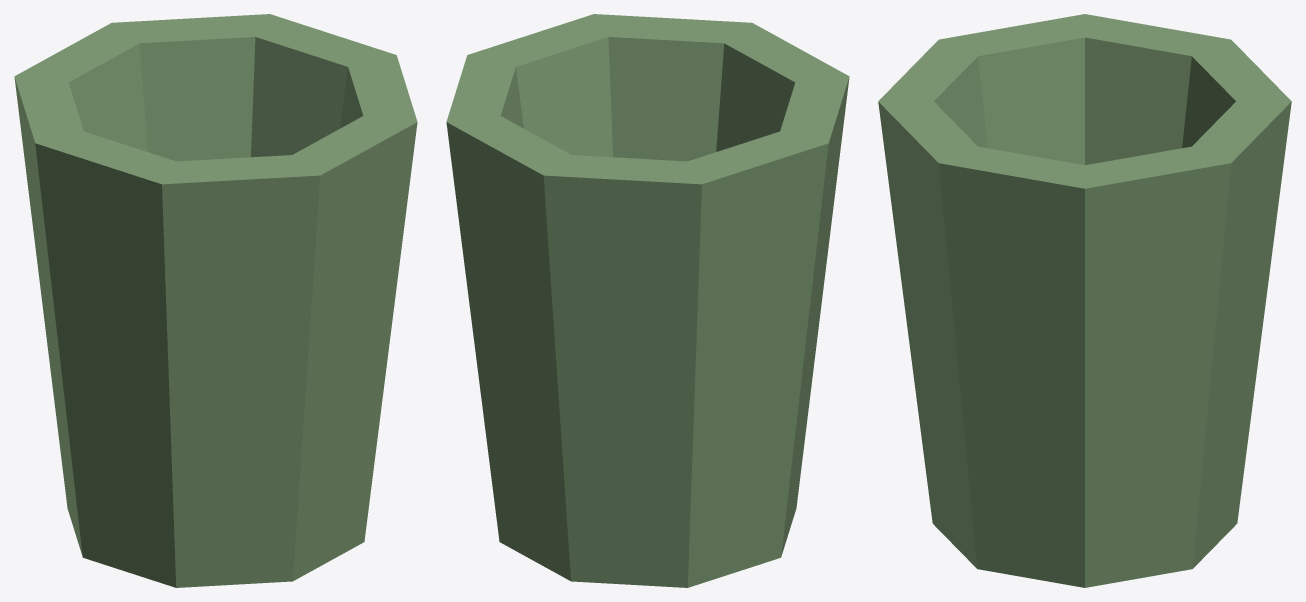
File: cup.fbx
3 views of the same model, side by side, from view 1: azimuth 30°, elevation 25°; view 2: azimuth 150°, elevation 25°; view 3: azimuth 270°, elevation 25° (orthographic).
Visible parts, largest first — view 1: Cylinder; view 2: Cylinder; view 3: Cylinder.
Boxes of the visible parts, x1,y1,x2,y2 form: Cylinder: (14, 14, 417, 587); Cylinder: (446, 14, 849, 587); Cylinder: (878, 14, 1291, 587).
Size of the model in its own units: 200 by 225 by 200.
